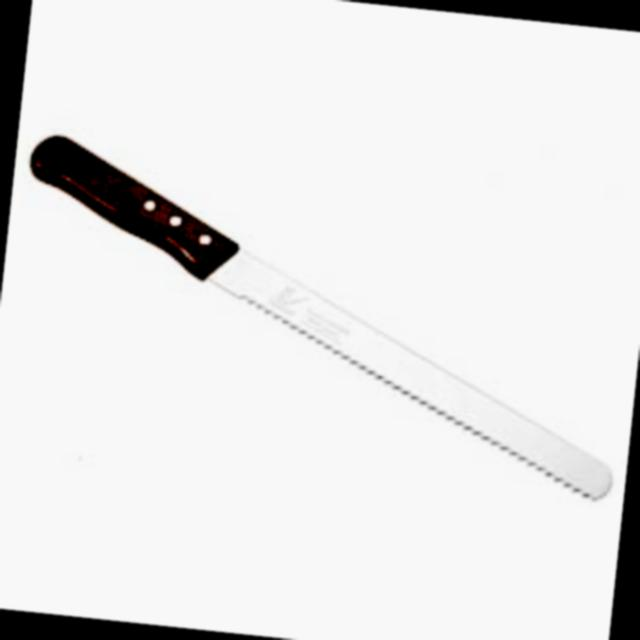knife: (19, 118, 622, 522)
